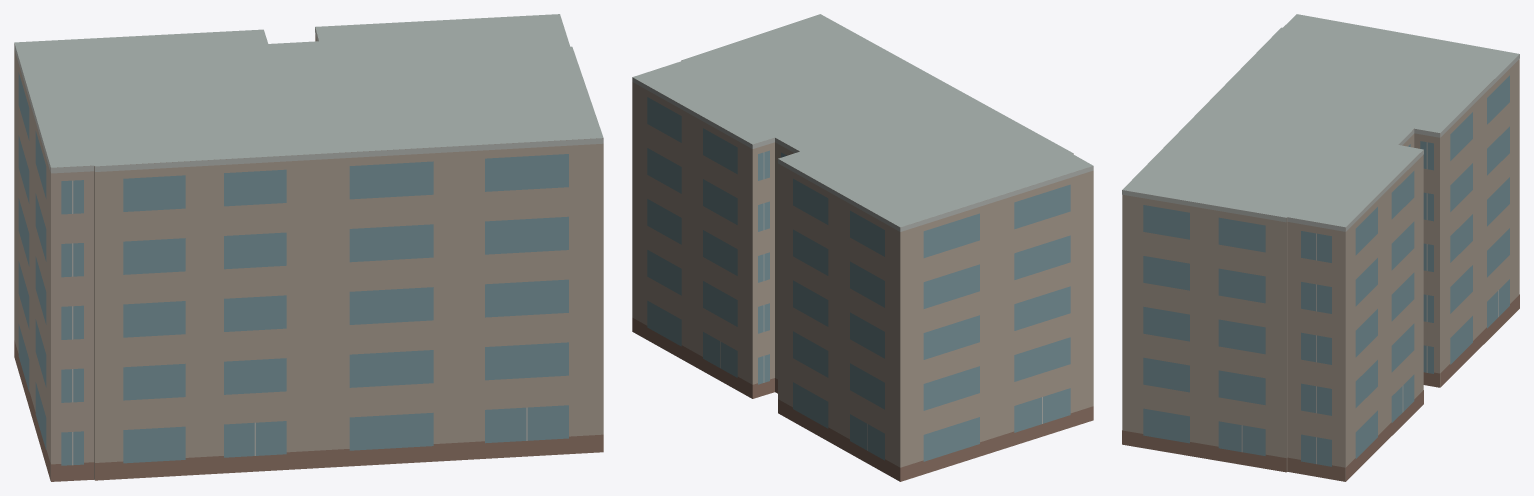
Rendered from survey-upis-32660304.glb.
The picture shows the model from 3 angles, left to right: view 1: azimuth 30°, elevation 25°; view 2: azimuth 150°, elevation 25°; view 3: azimuth 270°, elevation 25°; orthographic projection. The views are drawn at different scales.
Parts seen in each view (by area): view 1: survey-upis-32660304.tmp; view 2: survey-upis-32660304.tmp; view 3: survey-upis-32660304.tmp.
Boxes of the visible parts, left/top/right/bottom form: survey-upis-32660304.tmp: left=14, top=14, right=603, bottom=481; survey-upis-32660304.tmp: left=632, top=14, right=1093, bottom=481; survey-upis-32660304.tmp: left=1122, top=14, right=1519, bottom=481.
Size of the model in its own units: 24.09 by 13.4 by 18.98.
